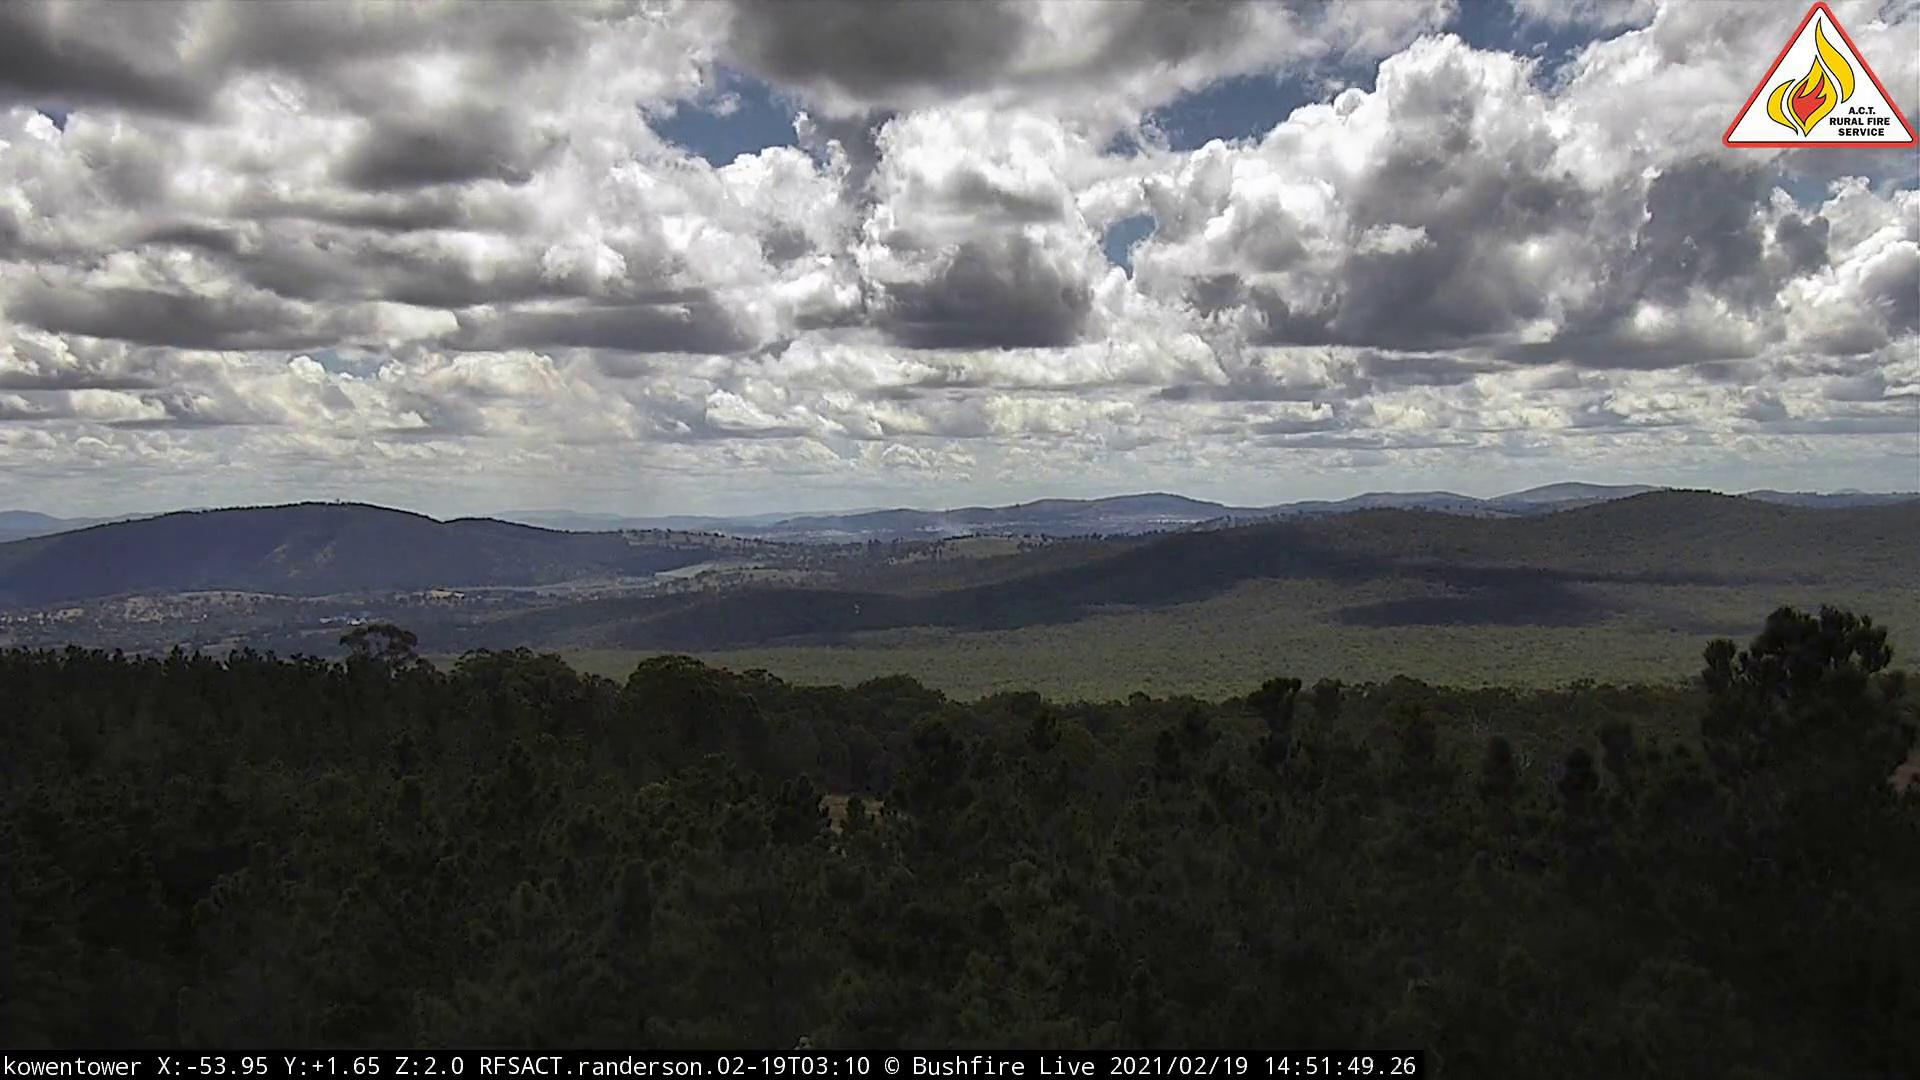Smoke: (502, 452, 980, 545)
